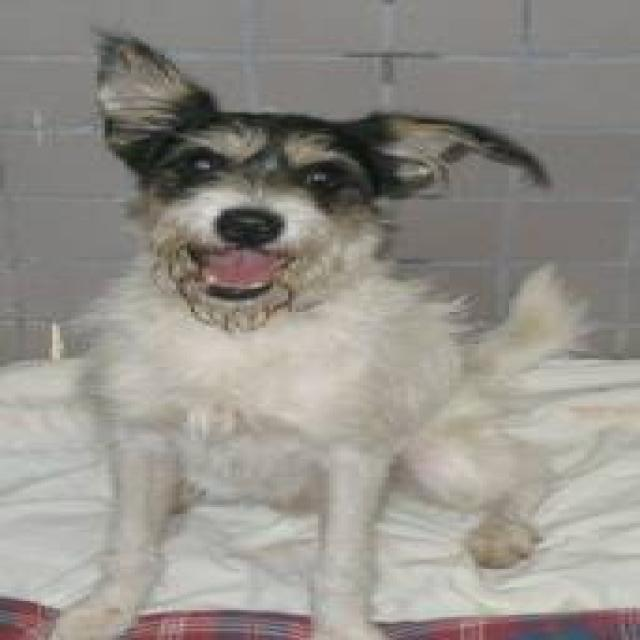dog: (45, 25, 588, 638)
